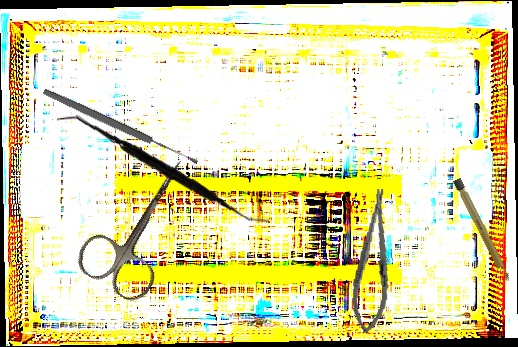Iris Scissors: (70, 140, 216, 308)
Needle Holder: (348, 187, 399, 335)
Scalpel Handle: (452, 177, 512, 284)
Spatula Surgical: (57, 105, 269, 236)
Surgical Spoon: (41, 86, 200, 168)
